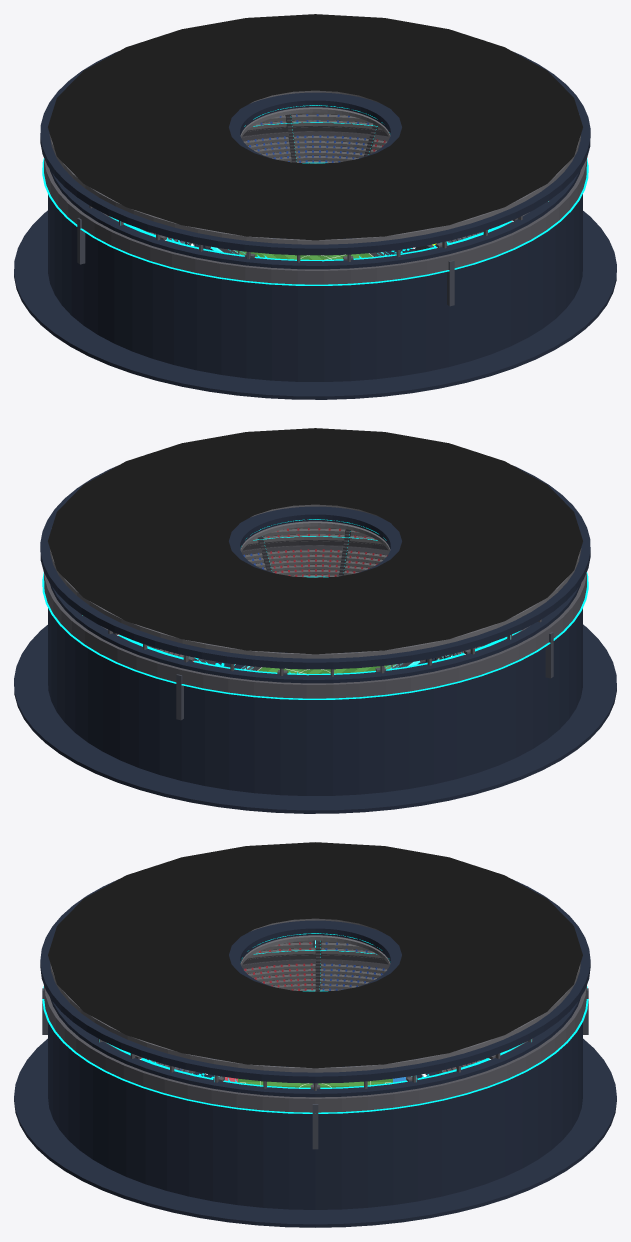
The model's file is grand-arena.glb.
The picture shows the model from 3 angles, top to bottom: view 1: azimuth 30°, elevation 25°; view 2: azimuth 150°, elevation 25°; view 3: azimuth 270°, elevation 25°; orthographic projection.
Visible parts, largest first — view 1: OuterWall, StadiumFloor, RoofRing, UpperRingBand, CeilingPanel_9, CeilingPanel_22, CeilingPanel_11, CeilingPanel_20, CeilingPanel_0, CeilingPanel_7, CeilingPanel_8, CeilingPanel_10 (+25 smaller); view 2: OuterWall, StadiumFloor, RoofRing, UpperRingBand, CeilingPanel_1, CeilingPanel_14, CeilingPanel_3, CeilingPanel_12, CeilingPanel_0, CeilingPanel_2, CeilingPanel_13, CeilingPanel_15 (+25 smaller); view 3: OuterWall, StadiumFloor, RoofRing, UpperRingBand, CeilingPanel_6, CeilingPanel_17, CeilingPanel_4, CeilingPanel_19, CeilingPanel_7, CeilingPanel_16, CeilingPanel_20, CeilingPanel_3 (+26 smaller).
Boxes of the visible parts, x1,y1,x2,y2 form: OuterWall: (48, 169, 582, 381); StadiumFloor: (14, 210, 616, 399); RoofRing: (40, 51, 590, 255); UpperRingBand: (44, 159, 586, 284); CeilingPanel_9: (48, 98, 231, 127); CeilingPanel_22: (399, 98, 582, 127); CeilingPanel_11: (57, 136, 239, 183); CeilingPanel_20: (391, 136, 573, 183); CeilingPanel_0: (377, 47, 546, 108); CeilingPanel_7: (84, 47, 253, 108); CeilingPanel_8: (57, 70, 239, 117); CeilingPanel_10: (48, 127, 231, 156); OuterWall: (48, 583, 582, 795); StadiumFloor: (14, 624, 616, 813); RoofRing: (40, 465, 590, 669); UpperRingBand: (44, 573, 586, 698); CeilingPanel_1: (48, 512, 231, 541); CeilingPanel_14: (399, 512, 582, 541); CeilingPanel_3: (57, 550, 239, 597); CeilingPanel_12: (391, 550, 573, 597); CeilingPanel_0: (57, 484, 239, 531); CeilingPanel_2: (48, 541, 231, 570); CeilingPanel_13: (399, 541, 582, 570); CeilingPanel_15: (391, 484, 573, 531); OuterWall: (48, 997, 582, 1209); StadiumFloor: (14, 1038, 616, 1227); RoofRing: (40, 879, 590, 1083); UpperRingBand: (44, 986, 586, 1112); CeilingPanel_6: (399, 926, 582, 955); CeilingPanel_17: (48, 926, 231, 955); CeilingPanel_4: (391, 964, 573, 1011); CeilingPanel_19: (57, 964, 239, 1011); CeilingPanel_7: (391, 899, 573, 945); CeilingPanel_16: (57, 899, 239, 945); CeilingPanel_20: (84, 973, 253, 1034); CeilingPanel_3: (377, 973, 546, 1034).
Size of the model in its own units: 160 by 42.65 by 160.
